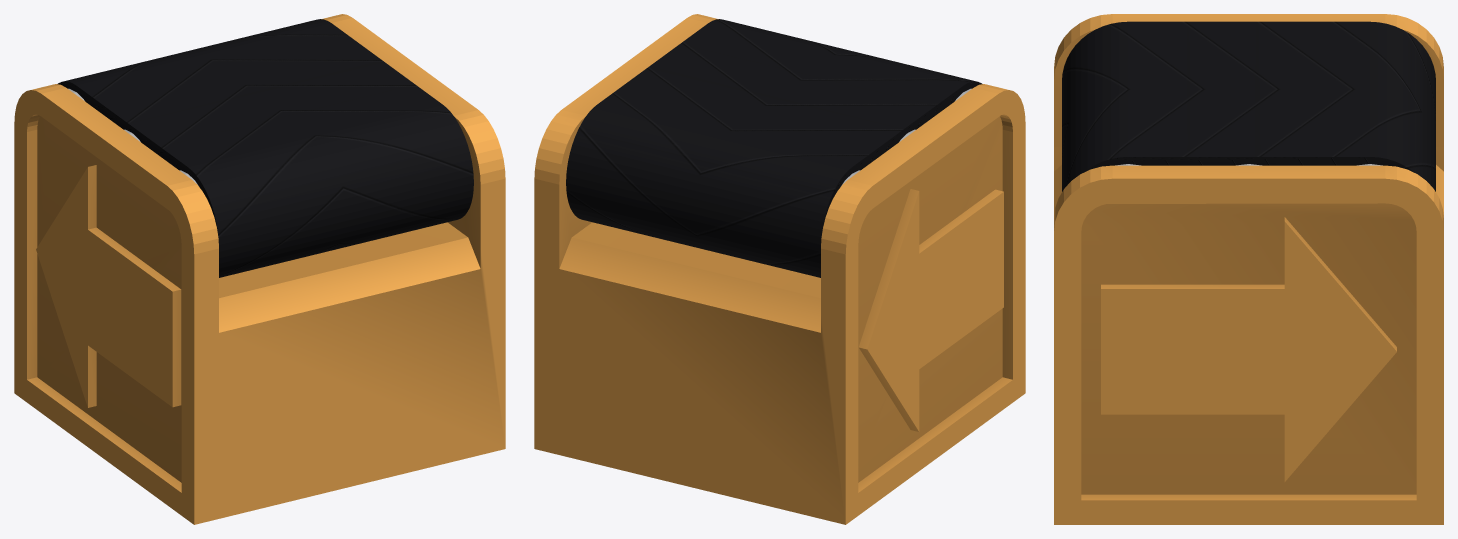
3 renders of one model, left to right at view 1: azimuth 30°, elevation 25°; view 2: azimuth 150°, elevation 25°; view 3: azimuth 270°, elevation 25°, orthographic. The views are drawn at different scales.
Parts seen in each view (by area): view 1: Part_Orange, Part_Belt; view 2: Part_Orange, Part_Belt; view 3: Part_Orange, Part_Belt.
Boxes of the visible parts, <box> form: Part_Orange: <box>14,14,505,524</box>; Part_Belt: <box>57,19,473,277</box>; Part_Orange: <box>534,14,1025,524</box>; Part_Belt: <box>566,19,982,277</box>; Part_Orange: <box>1054,14,1443,524</box>; Part_Belt: <box>1062,21,1435,191</box>.
Size of the model in its own units: 1 by 1 by 1.
3 materials, 1 textured.
